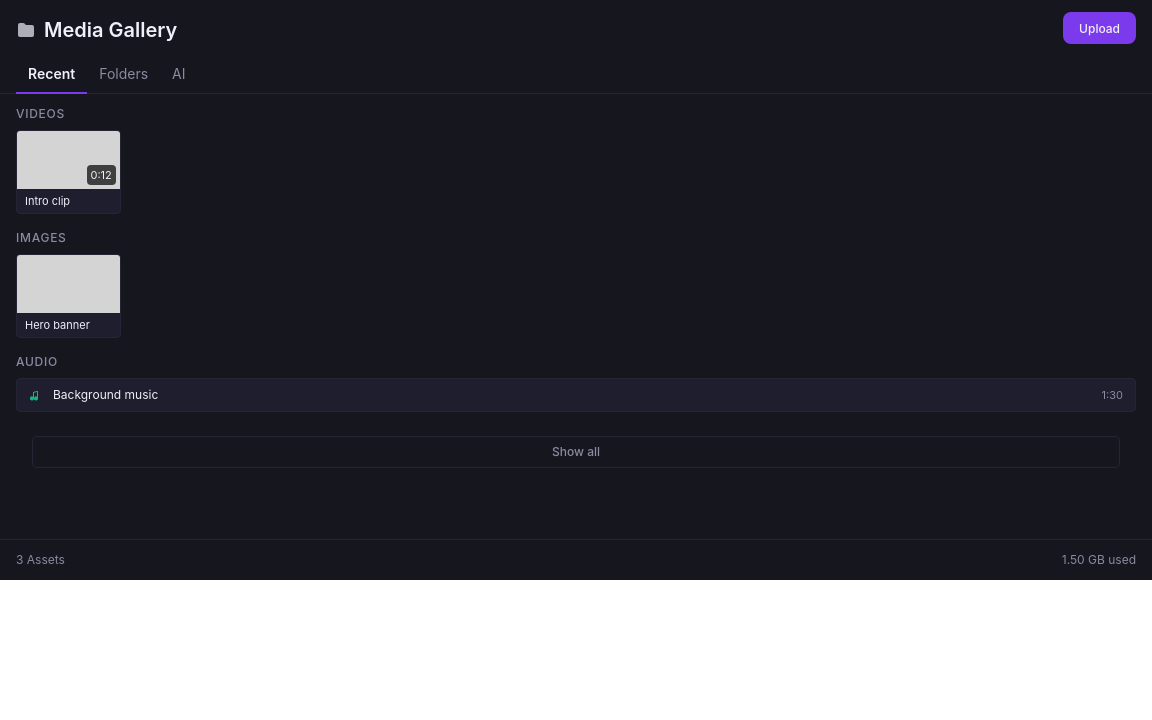
Test: MediaGalleryPanel — scope toggle › clicking toggle changes label to "Show only this draft"
The image size is (1152, 720).
What coordinates should you click on to do the following:
click the button with test id "scope-toggle"
I would click on:
 (576, 452)
Its box is [32,436,1120,468].
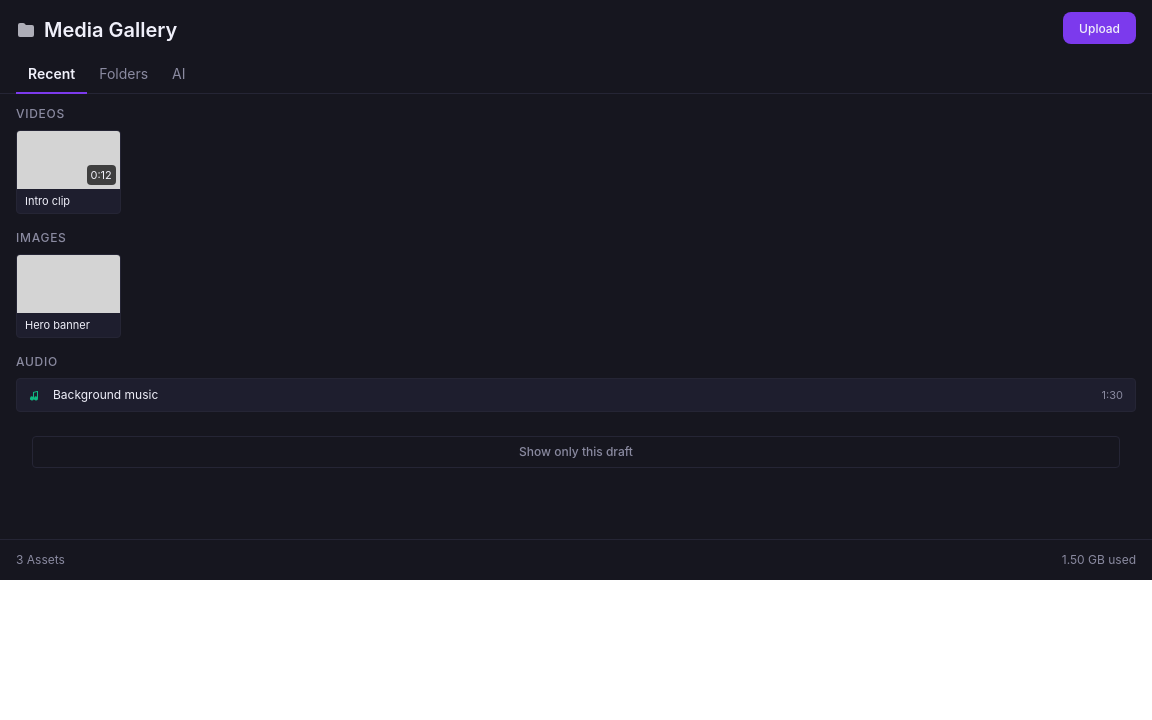
Result: the button with test id "scope-toggle" reads "Show only this draft" at [32,436,1120,468]
